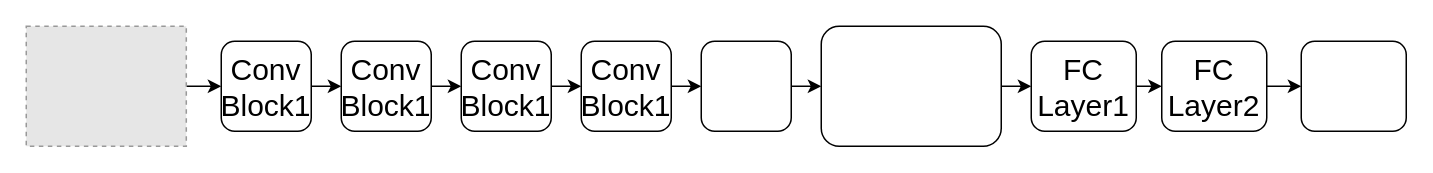
This 1433x173 diagram has some shape labels left out. Grey dashed boxes stand in for pictures. The centre of each missing label's shape, as x and y in pixels:
"Conv Block2" goes at [745,85].
"FC Layer3" goes at [1353,85].
"Global Average Pooling" goes at [910,85].
